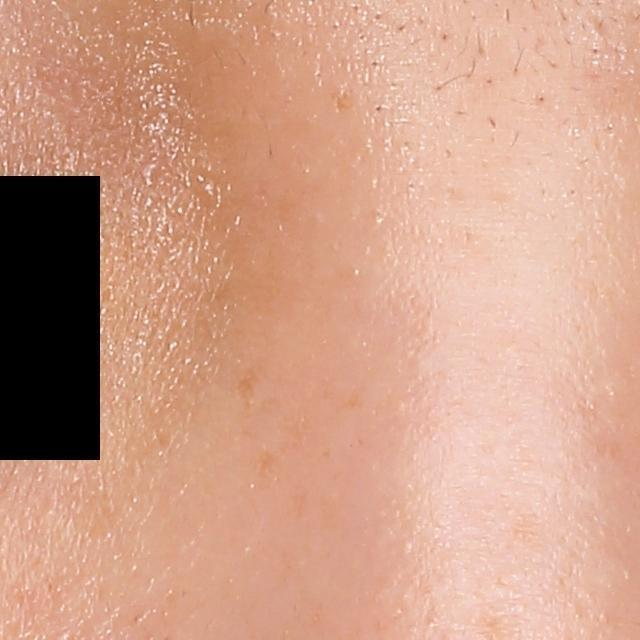melasma: (232, 357, 266, 407)
